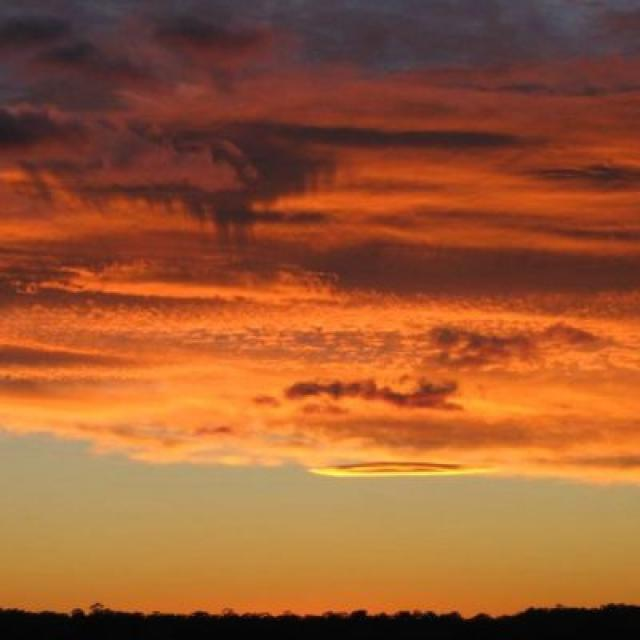As: (10, 23, 640, 525)
